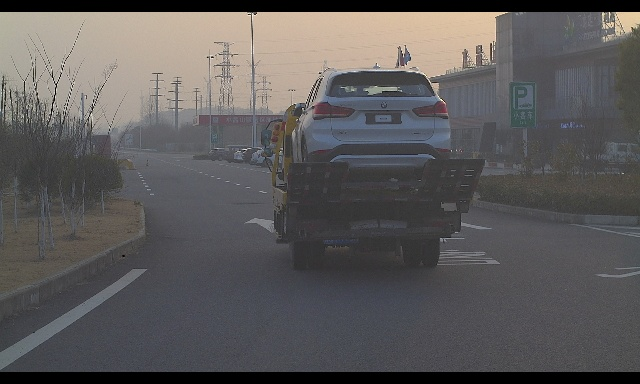car: (276, 148, 307, 169), (252, 148, 285, 167), (242, 147, 275, 165), (223, 145, 252, 163), (237, 149, 264, 163), (234, 149, 259, 164), (209, 148, 233, 161), (451, 144, 473, 157)
truck: (260, 63, 486, 270), (560, 141, 640, 172), (91, 135, 111, 161)
